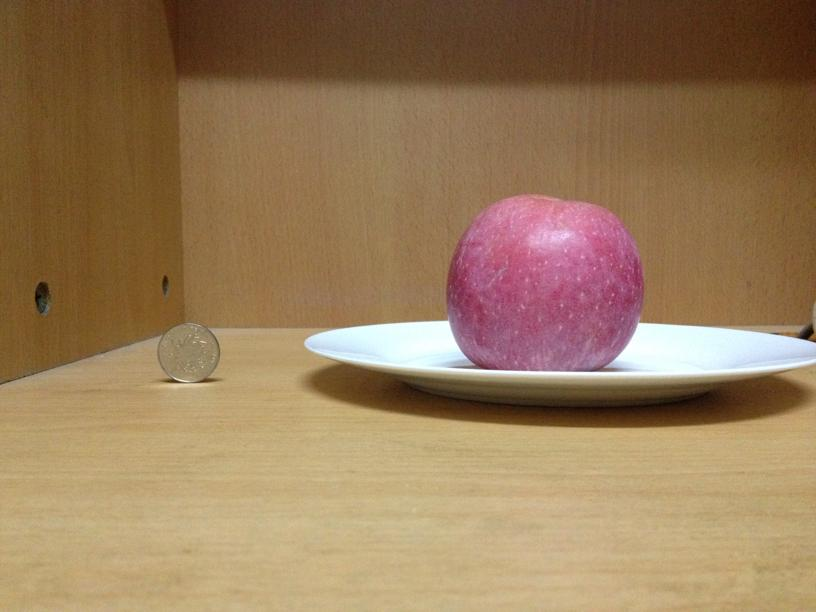apple: (446, 192, 644, 369)
coin: (155, 321, 220, 383)
